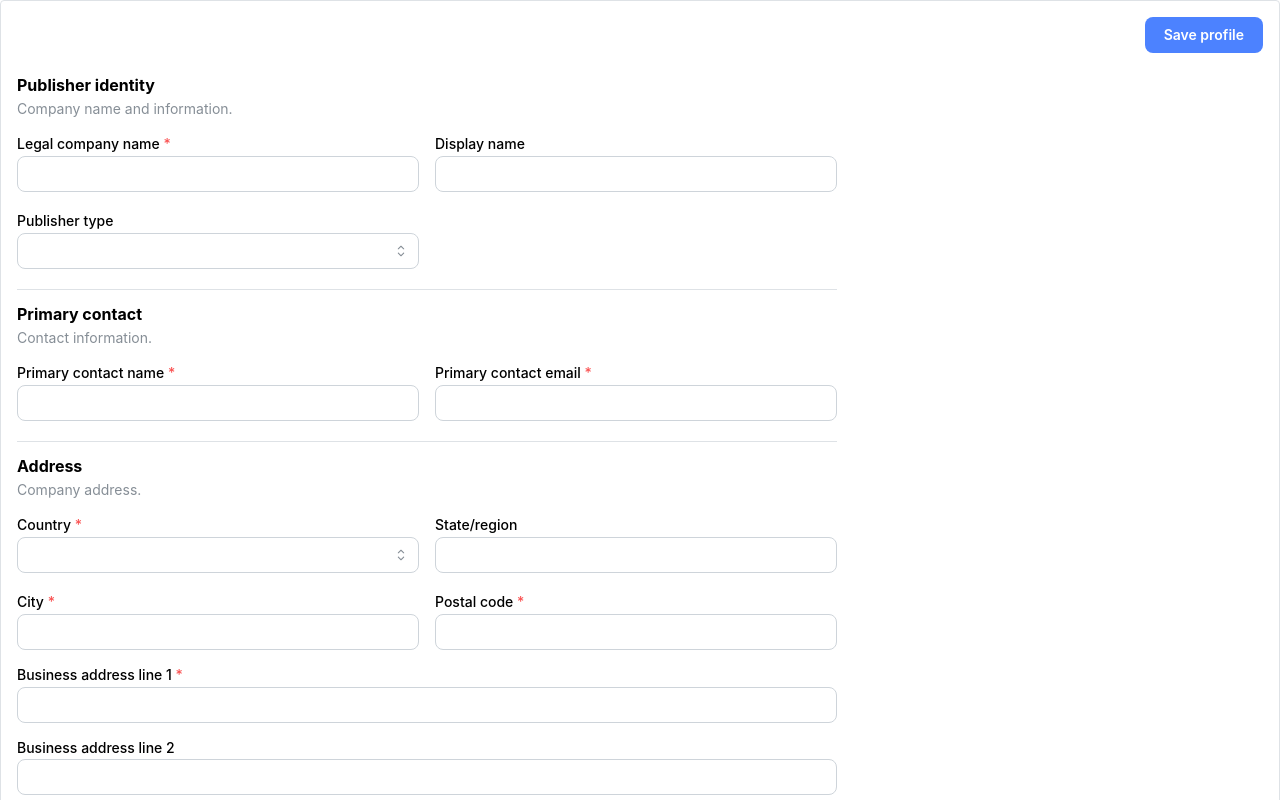
CompanyProfileForm › renders Country as a searchable selection list
The width and height of the screenshot is (1280, 800).
Click the field labelled "Country *" at [218, 555], box left=17, top=537, right=419, bottom=573
(page scrolled)
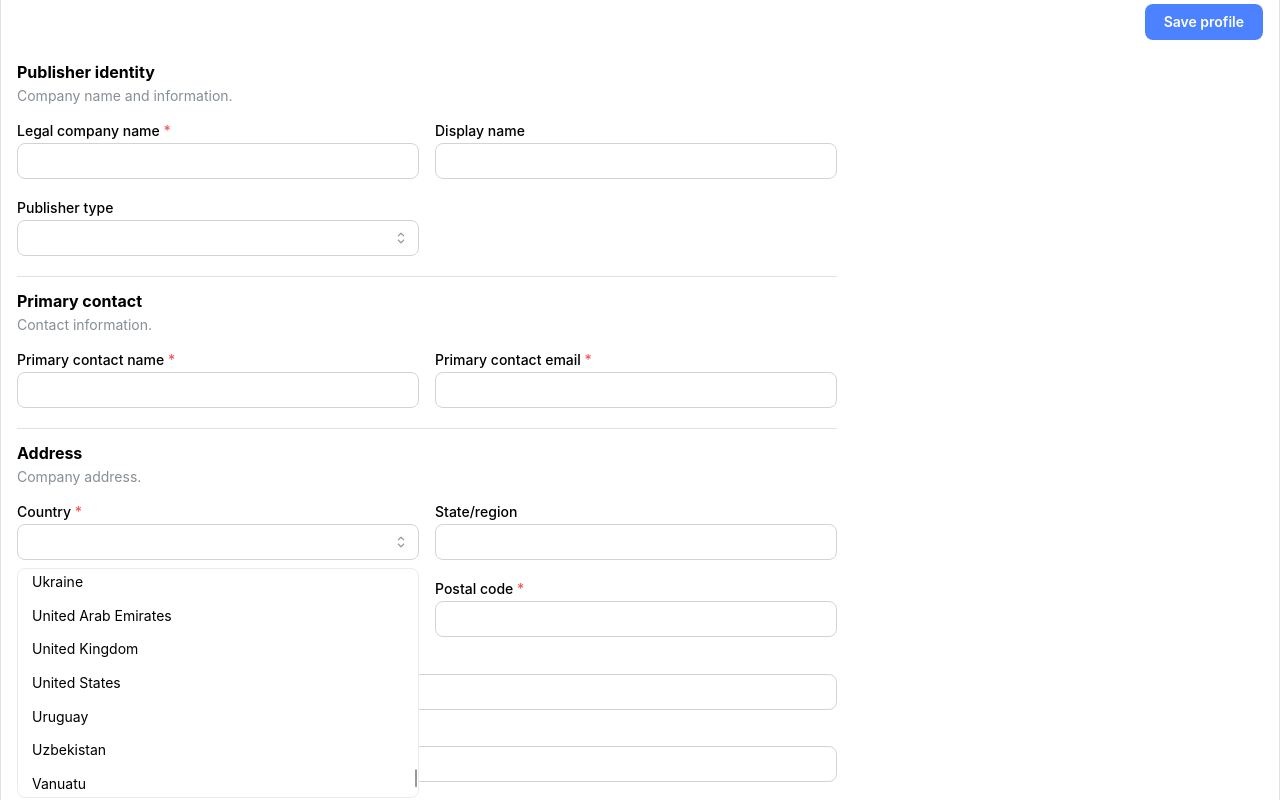
Expected: the text "United States" is shown, left=32, top=672, right=121, bottom=694
